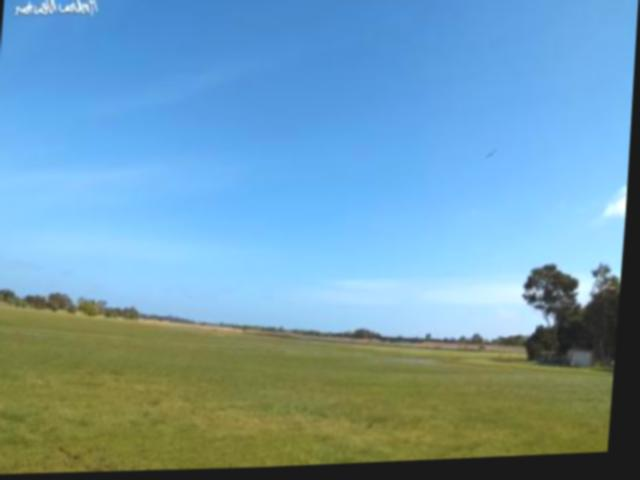uav: (483, 144, 502, 166)
